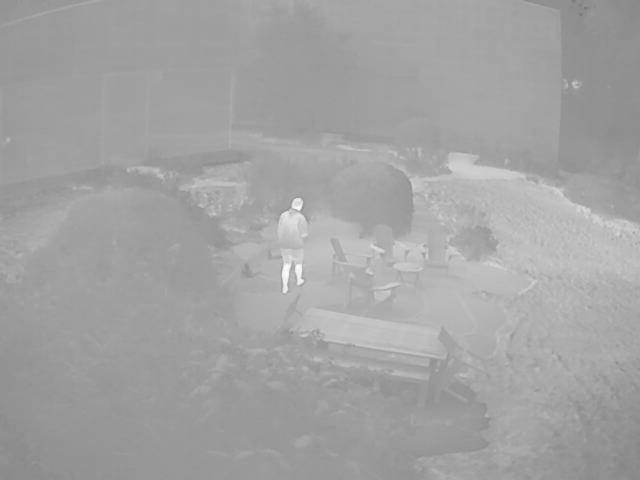person: (278, 195, 308, 295)
